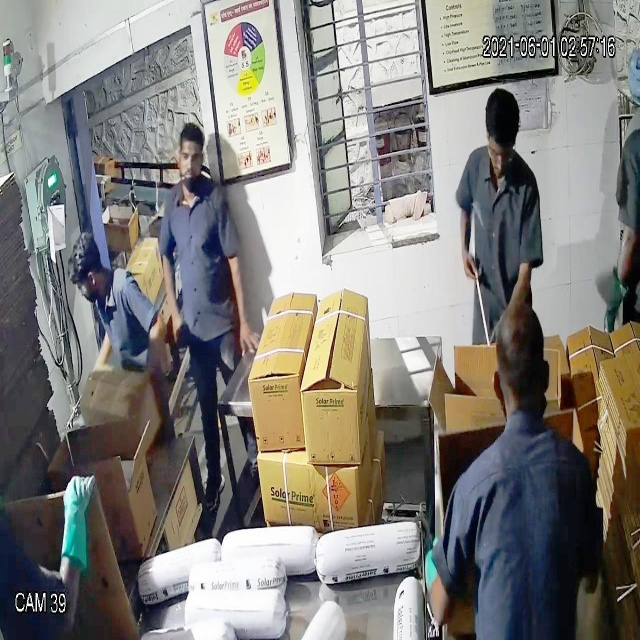Sin_gafas: (174, 142, 208, 173)
